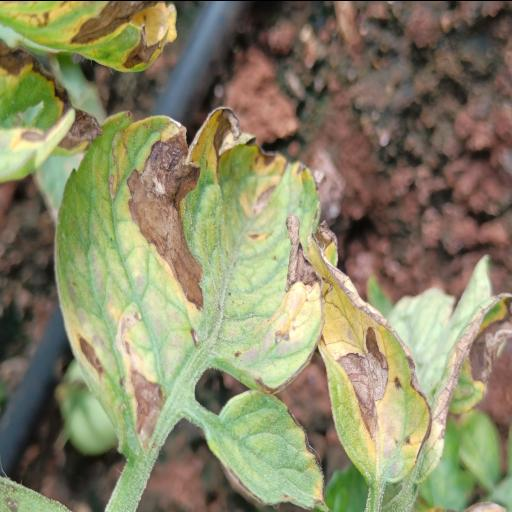disease_tomato: (51, 105, 325, 461), (304, 212, 434, 487)
